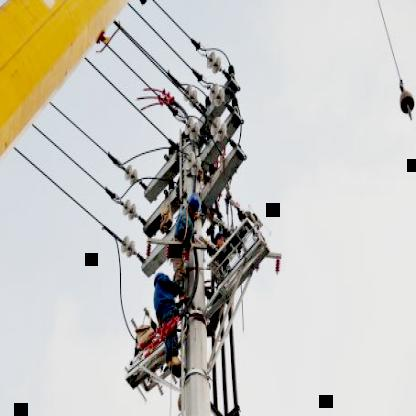helmet: (186, 192, 202, 221)
